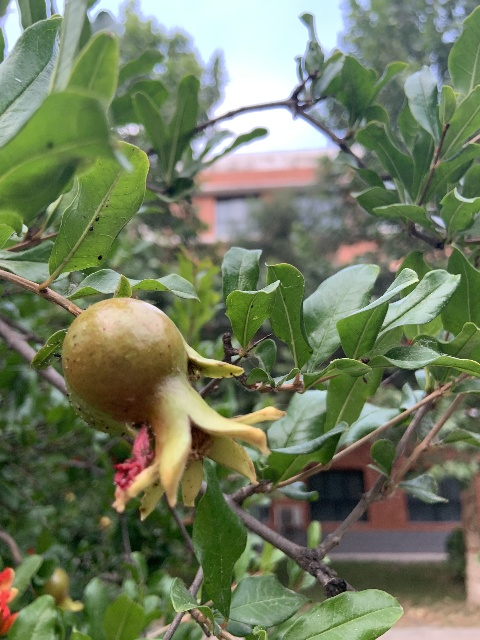mid-growth: (63, 296, 285, 521), (41, 566, 83, 612)
